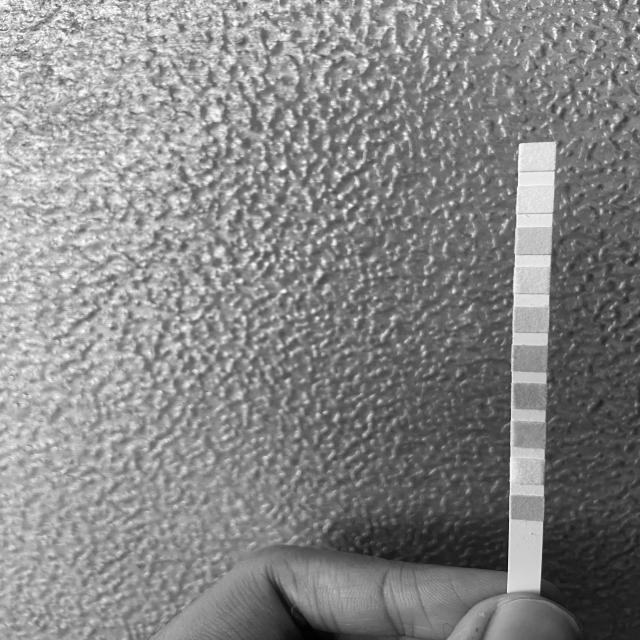Bilirubin: (510, 458, 544, 484)
Blood: (512, 345, 548, 371)
Glucose: (511, 496, 544, 520)
Ketone: (511, 422, 546, 448)
Leukocytes: (519, 143, 555, 171)
Nitrite: (518, 186, 553, 214)
Protein: (514, 268, 550, 294)
SpGravity: (512, 383, 547, 409)
Urobilinogen: (516, 227, 552, 254)
background: (0, 0, 640, 640)
pH: (513, 306, 549, 332)
strip: (507, 142, 556, 591)
